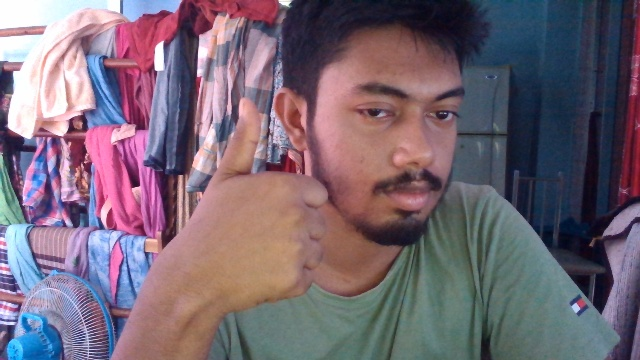yes: (180, 92, 330, 327)
